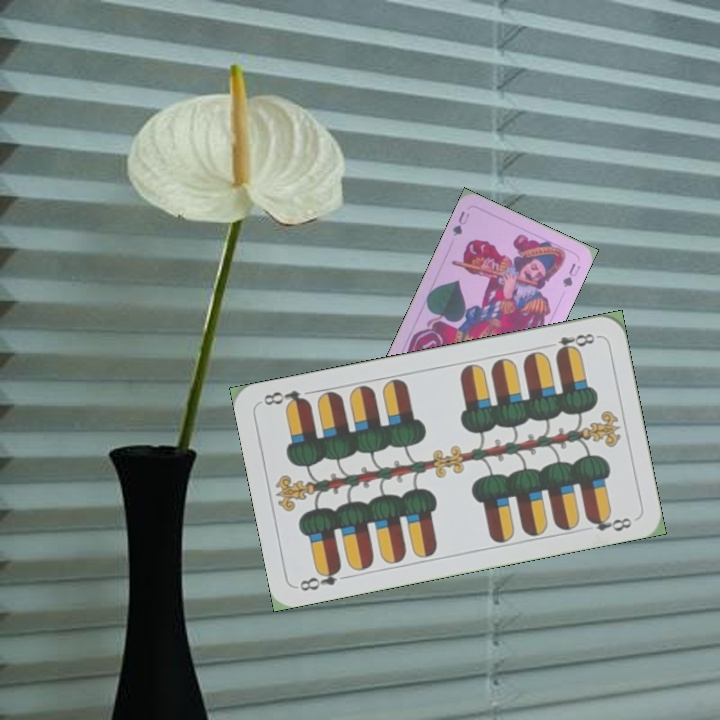E8: (295, 562, 344, 594), (552, 329, 601, 357)
GU: (448, 207, 472, 239)
